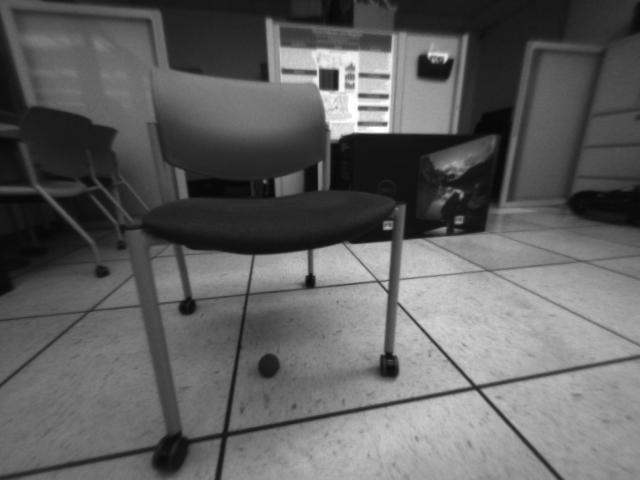dogtoy: (251, 347, 286, 384)
